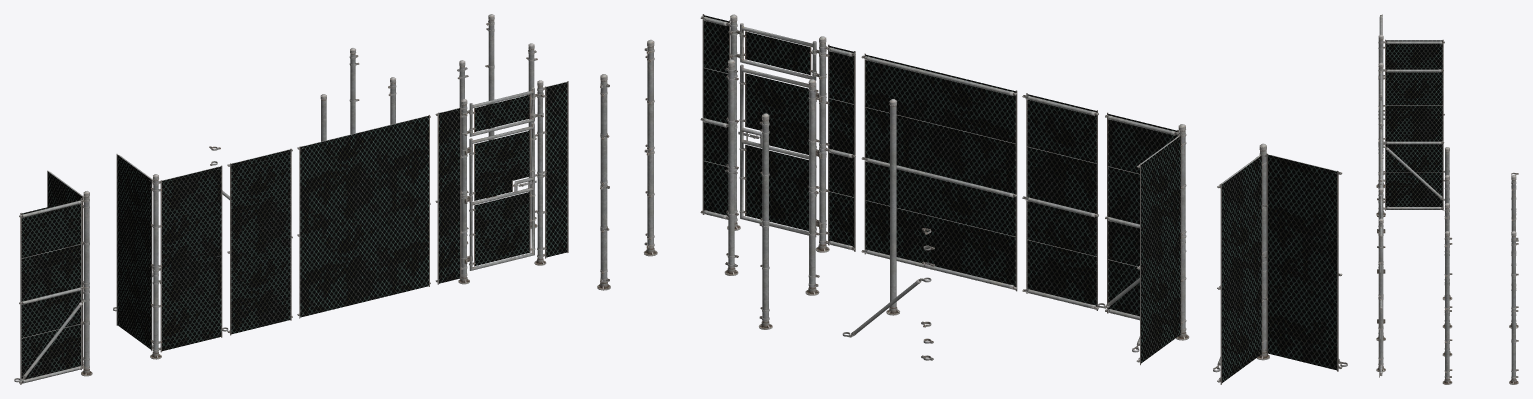
File: modular_chainlink_fence.glb
The picture shows the model from 3 angles, left to right: view 1: azimuth 30°, elevation 25°; view 2: azimuth 150°, elevation 25°; view 3: azimuth 270°, elevation 25°; orthographic projection. The views are drawn at different scales.
Parts seen in each view (by area): view 1: modular_chainlink_fence_double, modular_chainlink_fence_corner_outer, modular_chainlink_fence_door_frame, modular_chainlink_fence_corner_inner, modular_chainlink_fence, modular_chainlink_fence_door_gate, modular_chainlink_fence_start_01_corner_02, modular_chainlink_fence_start_01_corner_01, modular_chainlink_fence_end_02; view 2: modular_chainlink_fence_double, modular_chainlink_fence_corner_inner, modular_chainlink_fence_corner_outer, modular_chainlink_fence_door_frame, modular_chainlink_fence, modular_chainlink_fence_door_gate, modular_chainlink_fence_start_01_corner_02, modular_chainlink_post_middle, modular_chainlink_fence_end_01, modular_chainlink_fence_start_01_corner_01, modular_chainlink_fence_end_02, modular_chainlink_fence_post; view 3: modular_chainlink_fence_corner_outer, modular_chainlink_fence_corner_inner, modular_chainlink_fence_door_frame, modular_chainlink_fence_start_01_corner_02, modular_chainlink_fence_start_01_corner_01, modular_chainlink_fence_end_02, modular_chainlink_fence_double, modular_chainlink_post_middle, modular_chainlink_fence_end_01, modular_chainlink_fence_post.
Boxes of the visible parts, x1,y1,x2,y2 form: modular_chainlink_fence_double: [297, 115, 430, 318]; modular_chainlink_fence_corner_outer: [113, 154, 228, 359]; modular_chainlink_fence_door_frame: [435, 80, 568, 284]; modular_chainlink_fence_corner_inner: [14, 170, 92, 384]; modular_chainlink_fence: [227, 148, 292, 335]; modular_chainlink_fence_door_gate: [469, 123, 535, 270]; modular_chainlink_fence_start_01_corner_02: [485, 14, 496, 198]; modular_chainlink_fence_start_01_corner_01: [526, 43, 537, 228]; modular_chainlink_fence_end_02: [349, 48, 359, 134]; modular_chainlink_fence_double: [861, 53, 1017, 291]; modular_chainlink_fence_corner_inner: [1213, 143, 1347, 384]; modular_chainlink_fence_corner_outer: [1097, 112, 1189, 365]; modular_chainlink_fence_door_frame: [700, 14, 855, 252]; modular_chainlink_fence: [1022, 93, 1098, 310]; modular_chainlink_fence_door_gate: [739, 64, 816, 236]; modular_chainlink_fence_start_01_corner_02: [597, 74, 610, 290]; modular_chainlink_post_middle: [724, 59, 738, 275]; modular_chainlink_fence_end_01: [805, 79, 819, 295]; modular_chainlink_fence_start_01_corner_01: [643, 39, 657, 256]; modular_chainlink_fence_end_02: [758, 113, 772, 329]; modular_chainlink_fence_post: [886, 99, 899, 315]; modular_chainlink_fence_corner_outer: [1376, 62, 1449, 215]; modular_chainlink_fence_corner_inner: [1376, 14, 1449, 188]; modular_chainlink_fence_door_frame: [1376, 182, 1385, 377]; modular_chainlink_fence_start_01_corner_02: [1509, 231, 1518, 384]; modular_chainlink_fence_start_01_corner_01: [1442, 231, 1452, 384]; modular_chainlink_fence_end_02: [1509, 175, 1518, 328]; modular_chainlink_fence_double: [1379, 126, 1382, 183]; modular_chainlink_post_middle: [1442, 203, 1452, 356]; modular_chainlink_fence_end_01: [1442, 175, 1452, 328]; modular_chainlink_fence_post: [1442, 147, 1452, 300].
Size of the model in its own units: 8.11 by 2.52 by 2.15.
Materials: 2 (2 with a texture image).
